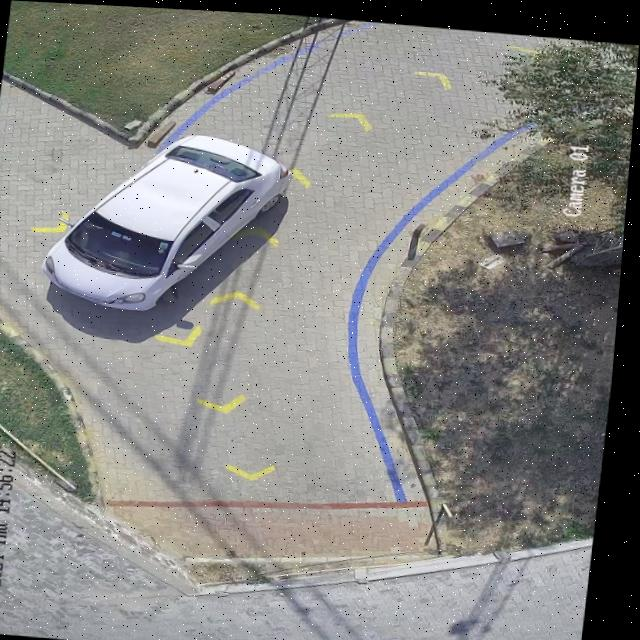car: (45, 131, 293, 308)
